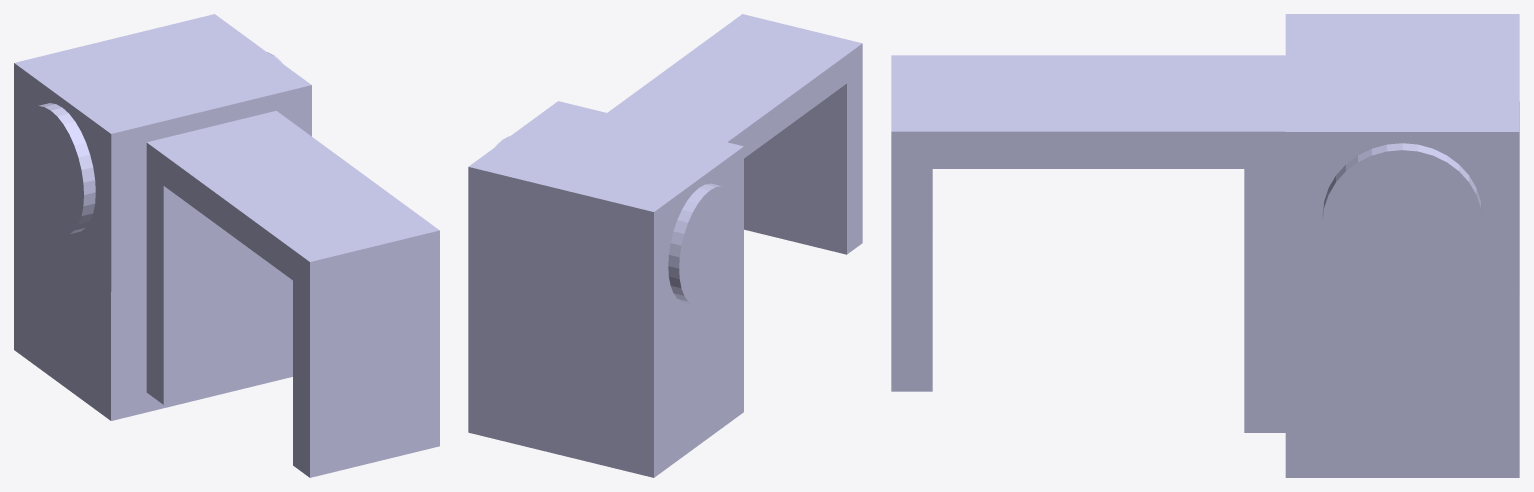
File: dbAlpha_URDF_Leg_Abdomen_RearRight_Link1__96__.dae
3 views of the same model, side by side, from view 1: azimuth 30°, elevation 25°; view 2: azimuth 150°, elevation 25°; view 3: azimuth 270°, elevation 25° (orthographic). The views are drawn at different scales.
Visible parts, largest first — view 1: Node_0x7f7afcac6830 (×5); view 2: Node_0x7f7afcac6830 (×4); view 3: Node_0x7f7afcac6830 (×5).
Part boxes in pixels (x1,y1,x2,y2): Node_0x7f7afcac6830 (×5): (14, 14, 439, 477); Node_0x7f7afcac6830 (×4): (468, 14, 862, 477); Node_0x7f7afcac6830 (×5): (891, 14, 1519, 477).
Bounding box in the file's own units: 0.038 × 0.0465 × 0.0765.
